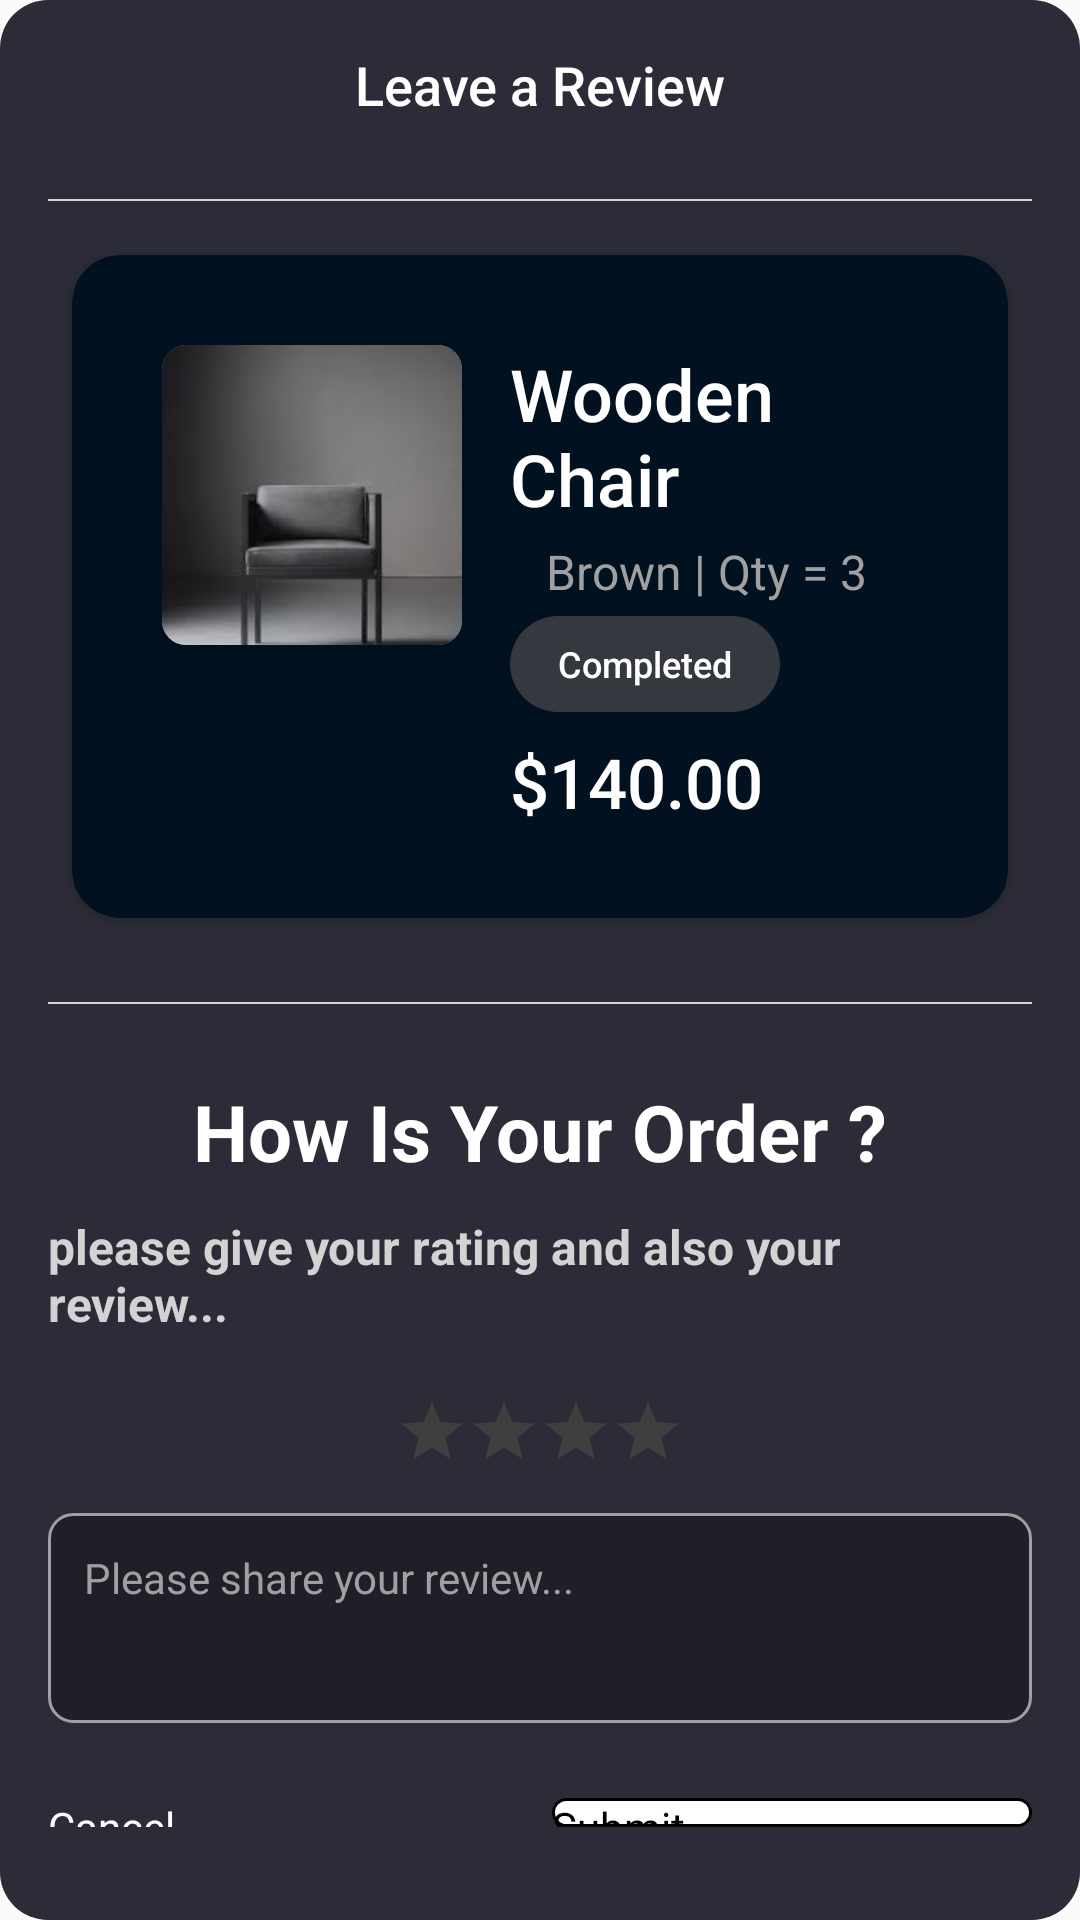

Locate icon controls on the screen. Image size 1080×1920, boxes as (x1, y1, x2, y2).
images: (162, 345, 462, 645)
